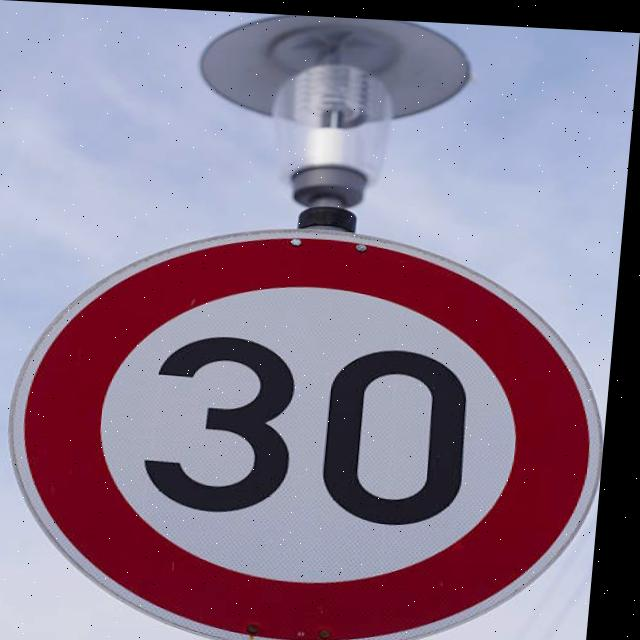Speed limit 30: (1, 211, 621, 640)
